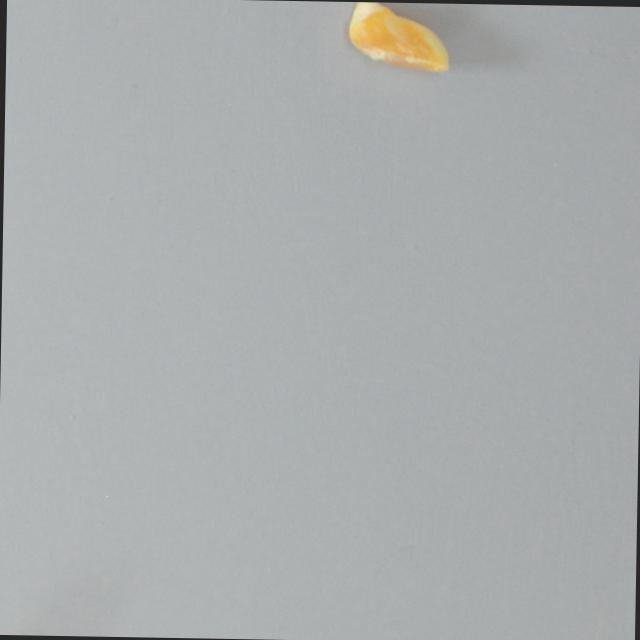pelicula: (343, 0, 454, 82)
